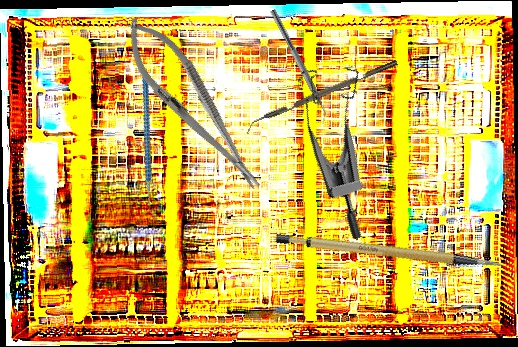Chopper: (102, 70, 200, 220), (242, 59, 401, 135), (262, 8, 334, 126)
Needle Holder: (108, 4, 277, 205)
Scalpel Handle: (273, 203, 505, 305)
Speculum: (270, 48, 429, 242)
